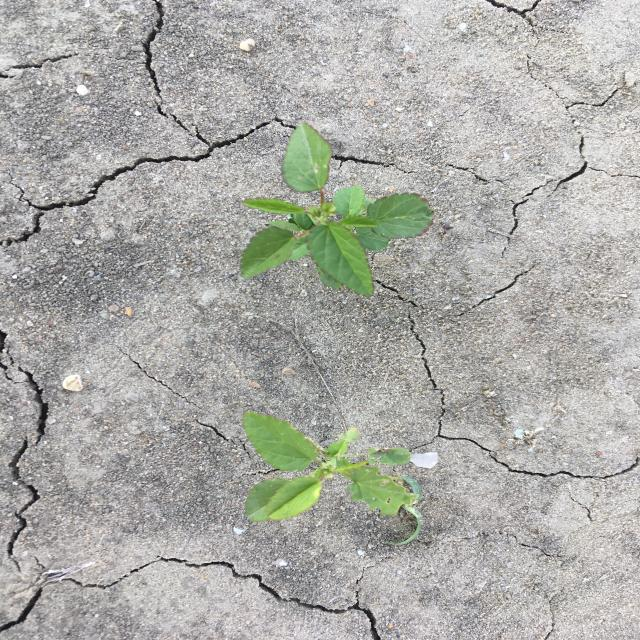PricklySida: (237, 120, 437, 299), (240, 408, 422, 524)
